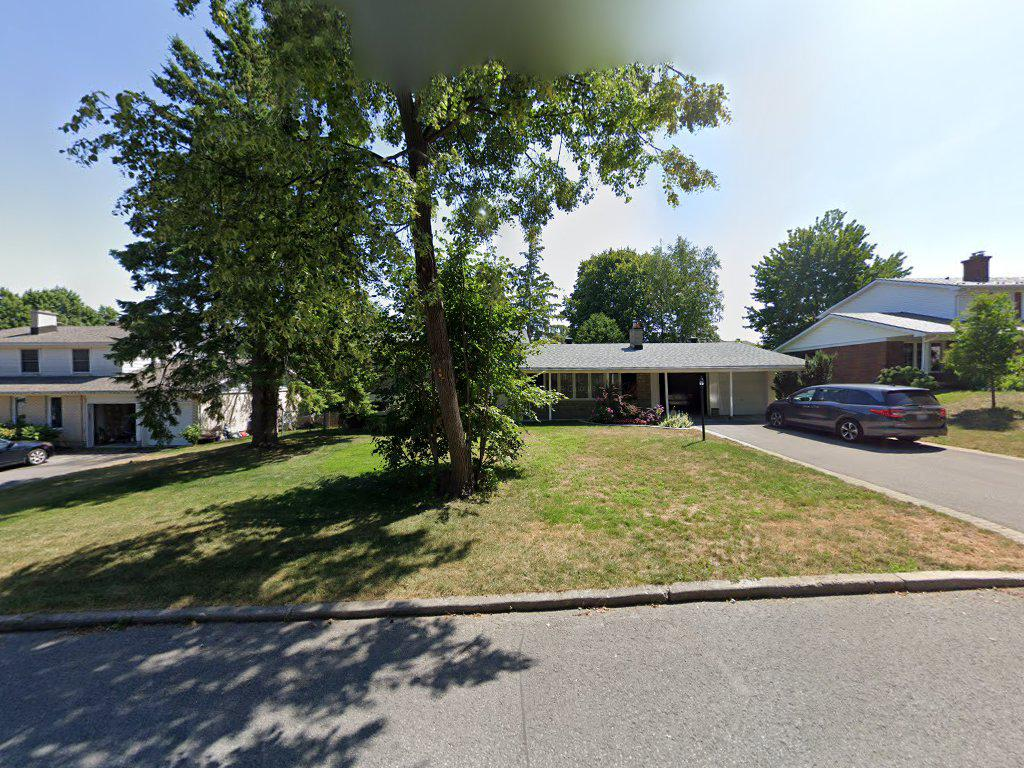trunk: (419, 298, 481, 502), (242, 338, 284, 462)
